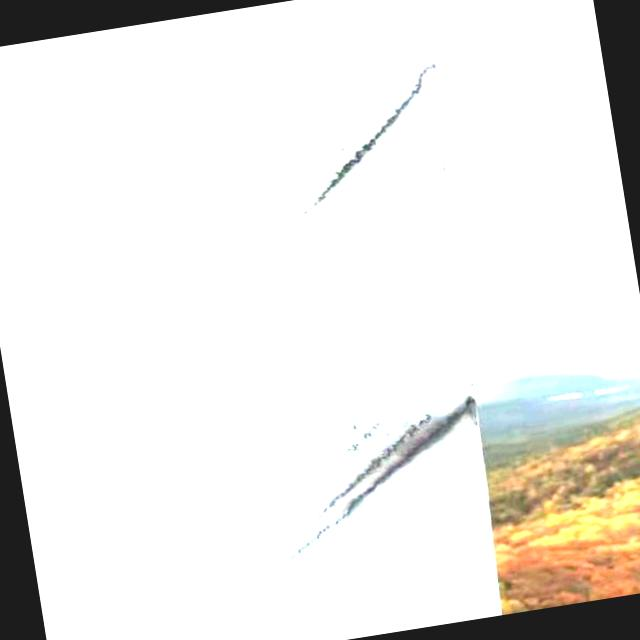crack: (274, 400, 488, 555), (286, 61, 452, 210)
